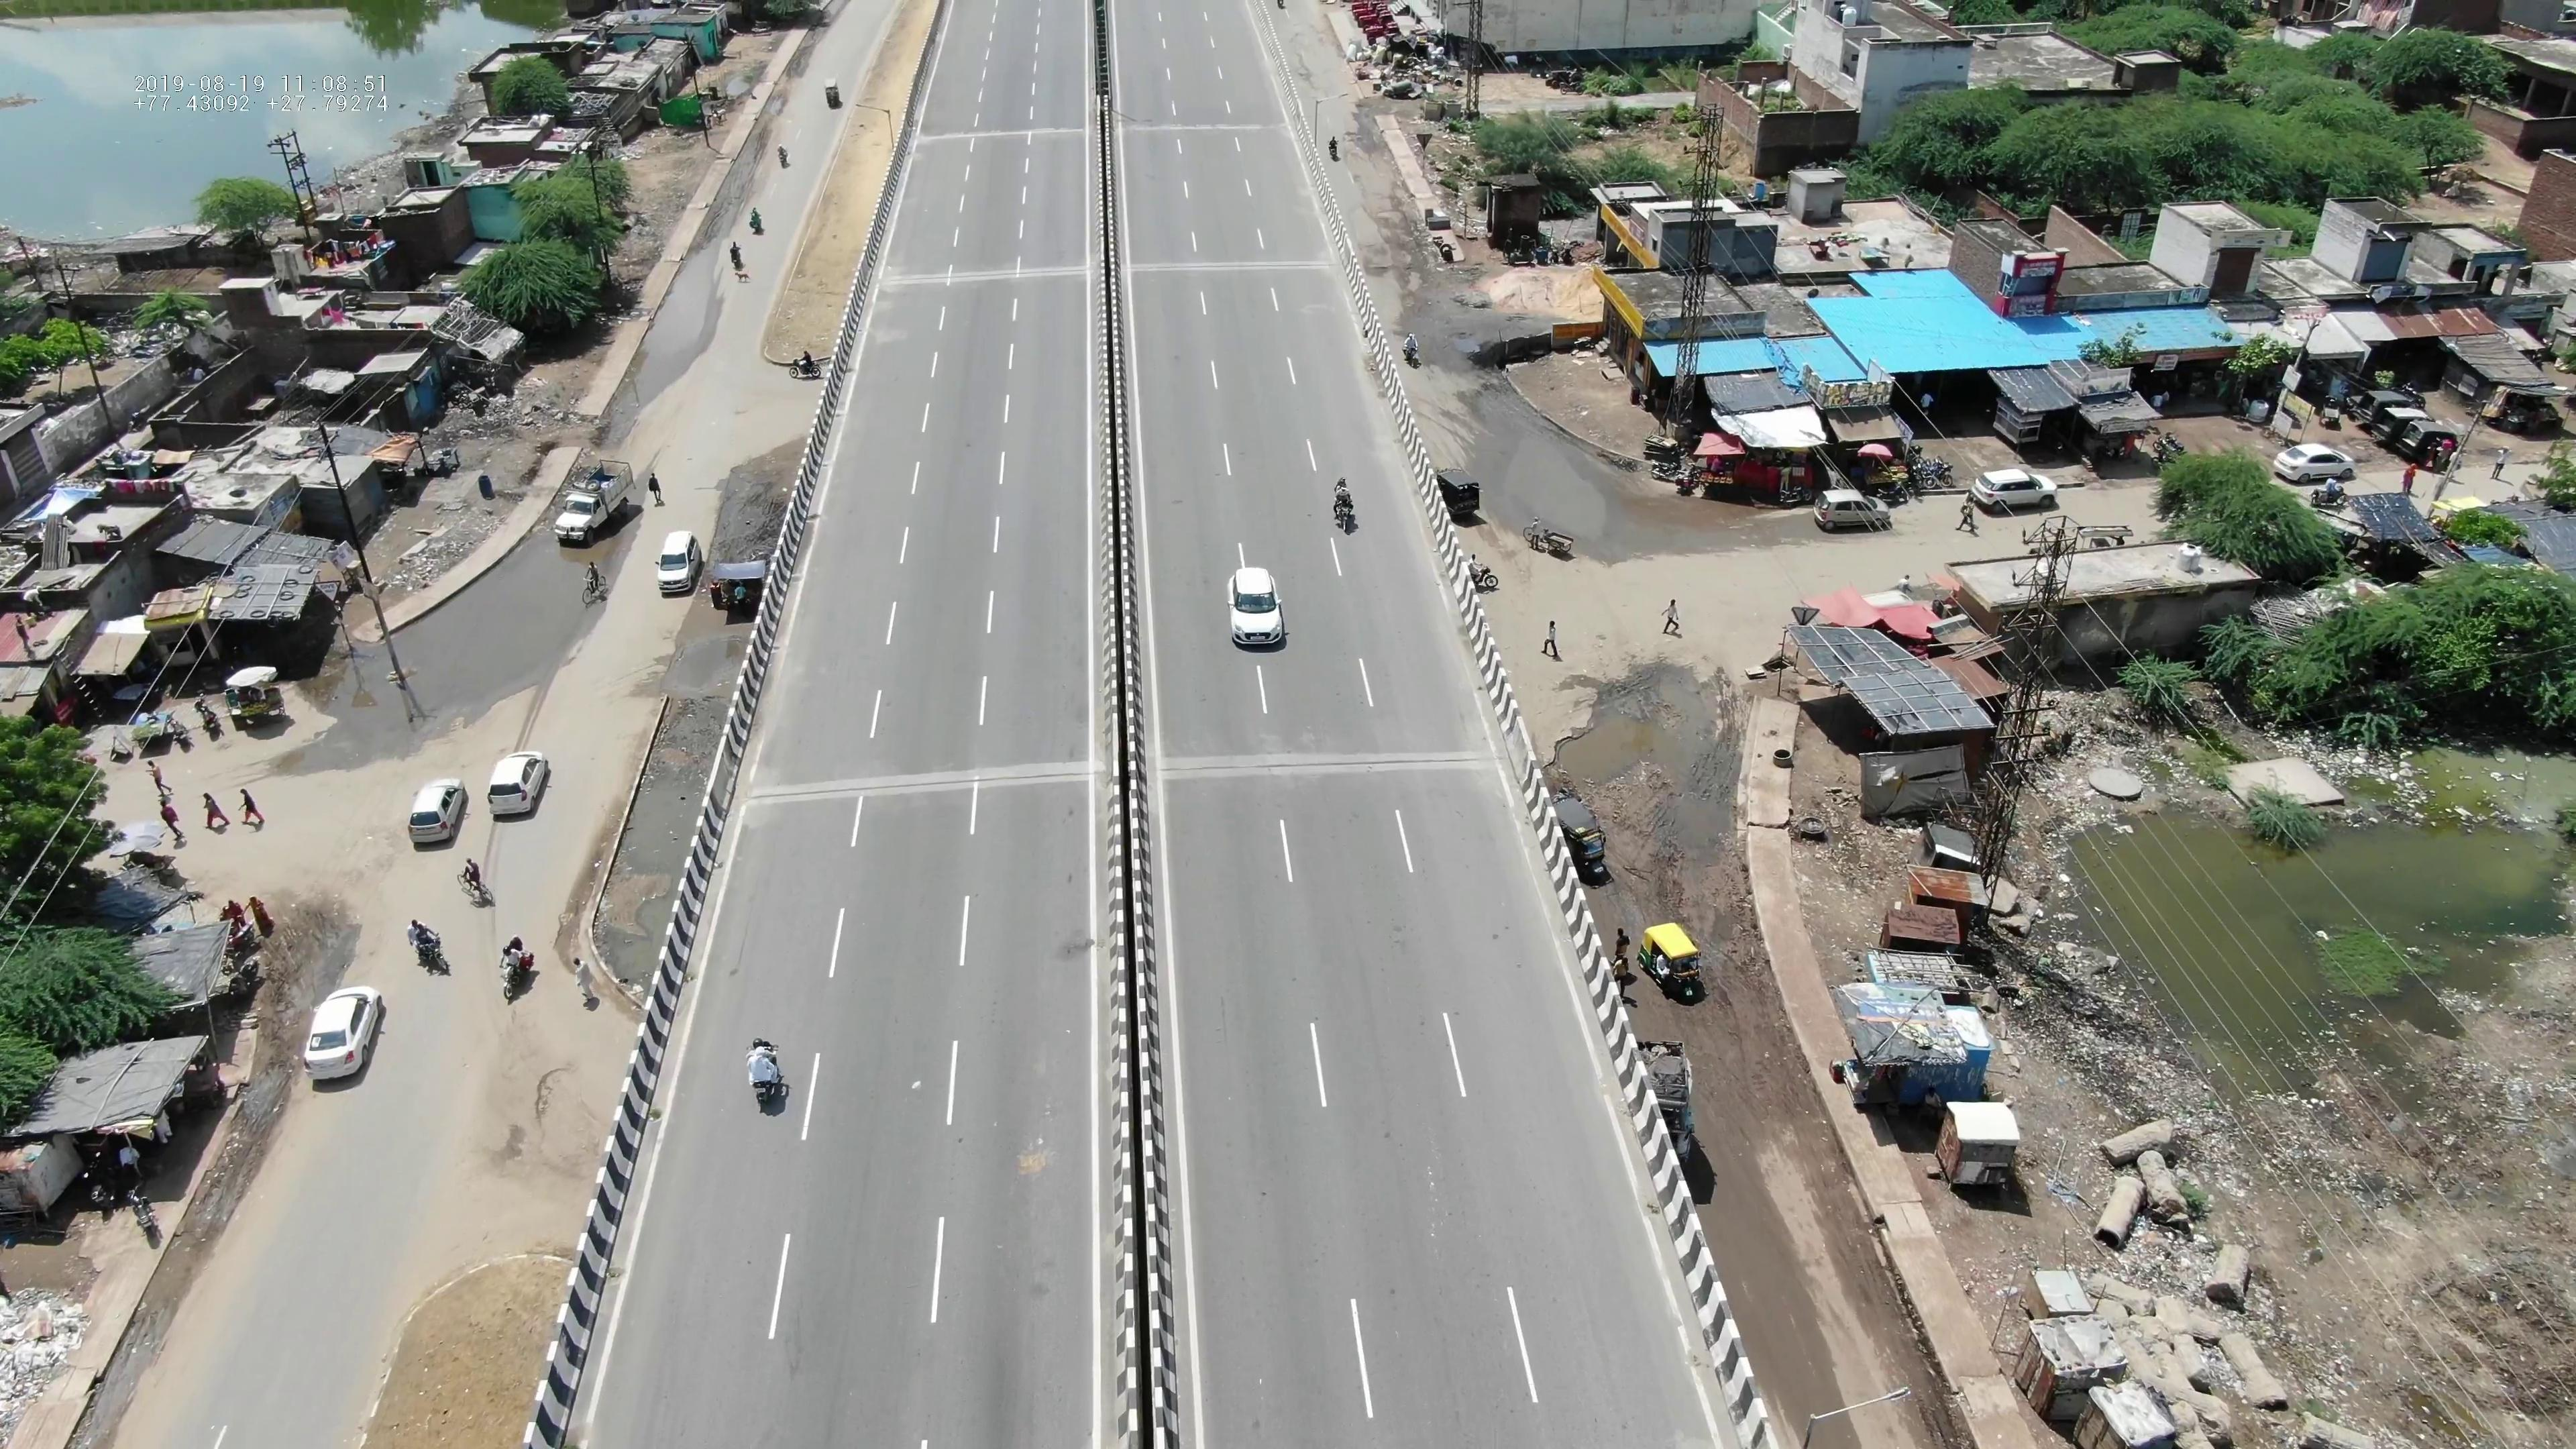Potholes: (1543, 708, 1637, 796)
